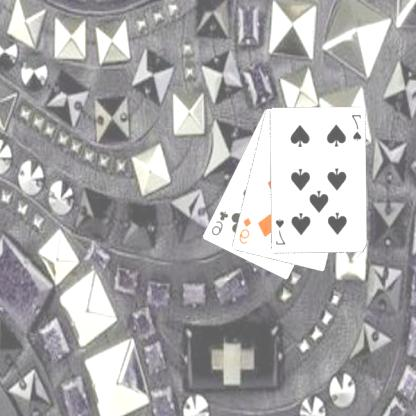6D: (238, 214, 254, 246)
7S: (274, 216, 288, 247), (350, 112, 364, 142)
9C: (210, 208, 232, 237)
